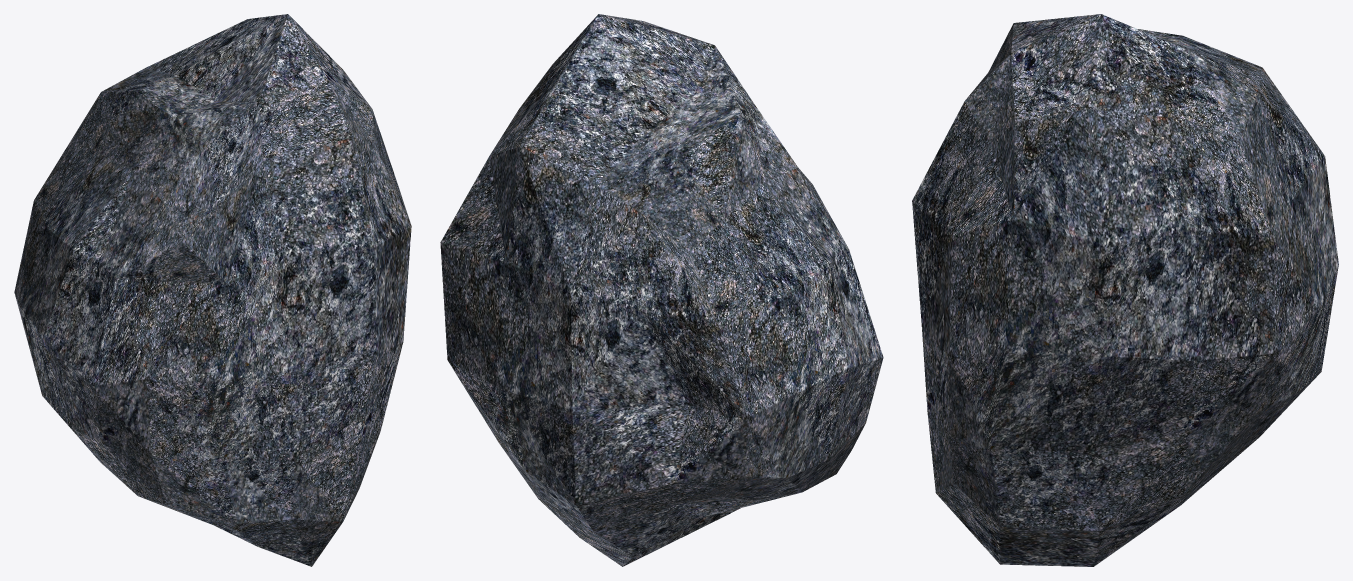
The model's file is asteroid_iron_medium_s03_l1.fbx.
3 views of the same model, side by side, from view 1: azimuth 30°, elevation 25°; view 2: azimuth 150°, elevation 25°; view 3: azimuth 270°, elevation 25° (orthographic). The views are drawn at different scales.
Visible parts, largest first — view 1: mesh_node; view 2: mesh_node; view 3: mesh_node.
Part boxes in pixels (bbox=[...]): mesh_node: bbox=[14, 14, 411, 566]; mesh_node: bbox=[440, 14, 883, 566]; mesh_node: bbox=[912, 14, 1338, 566].
Bounding box in the file's own units: 43.43 × 65.78 × 45.19.
